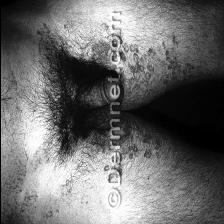Toxin: (126, 43, 156, 102), (120, 115, 138, 165), (90, 42, 109, 66)
